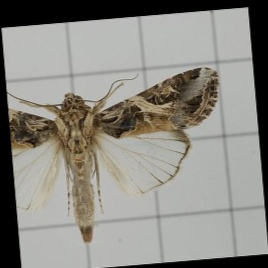Spodoptera litura: (13, 74, 225, 242)
